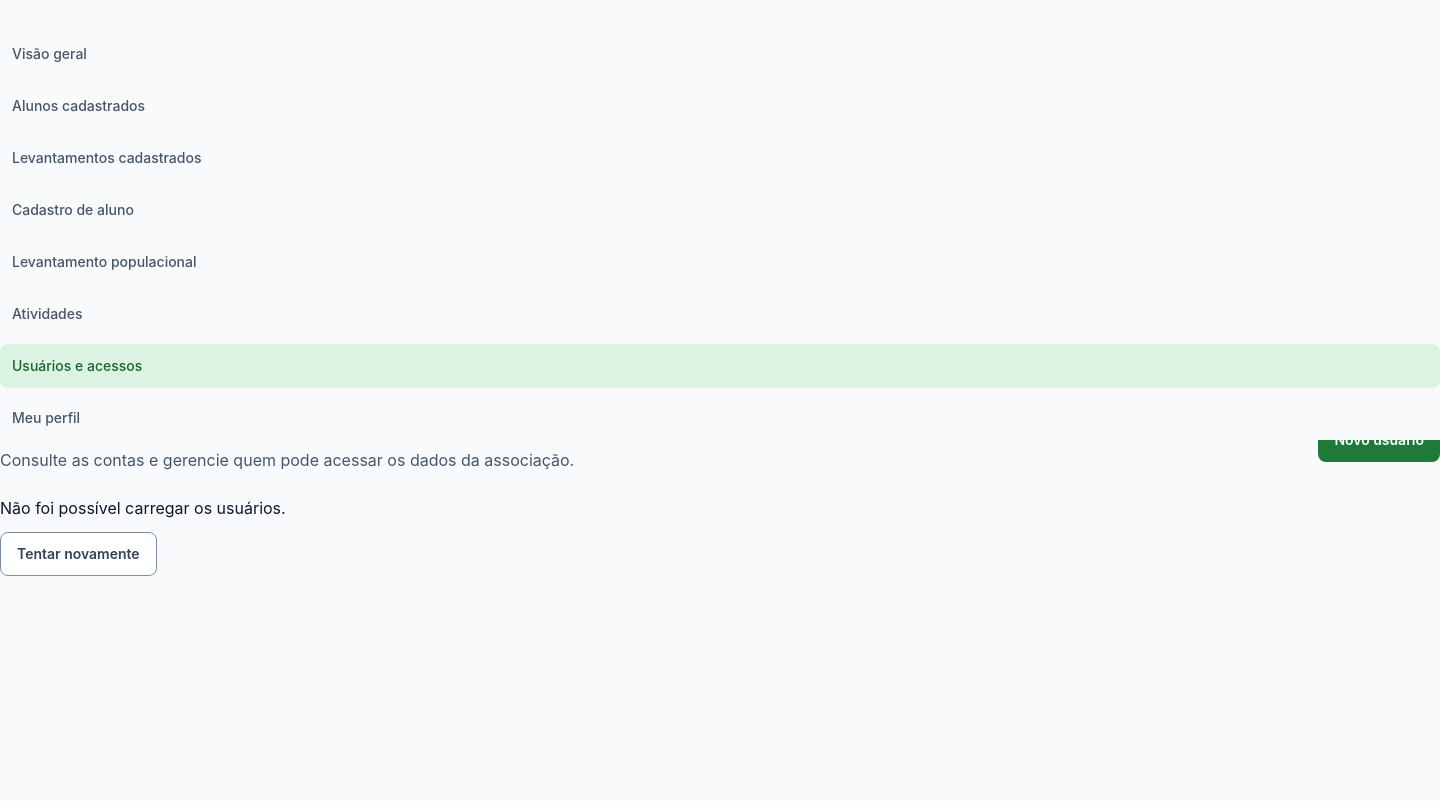
Scenario: filtra por e-mail e situação e permite recuperar falha da listagem
The image size is (1440, 801).
Click the button "Tentar novamente".
click(78, 554)  # box [0, 532, 157, 576]
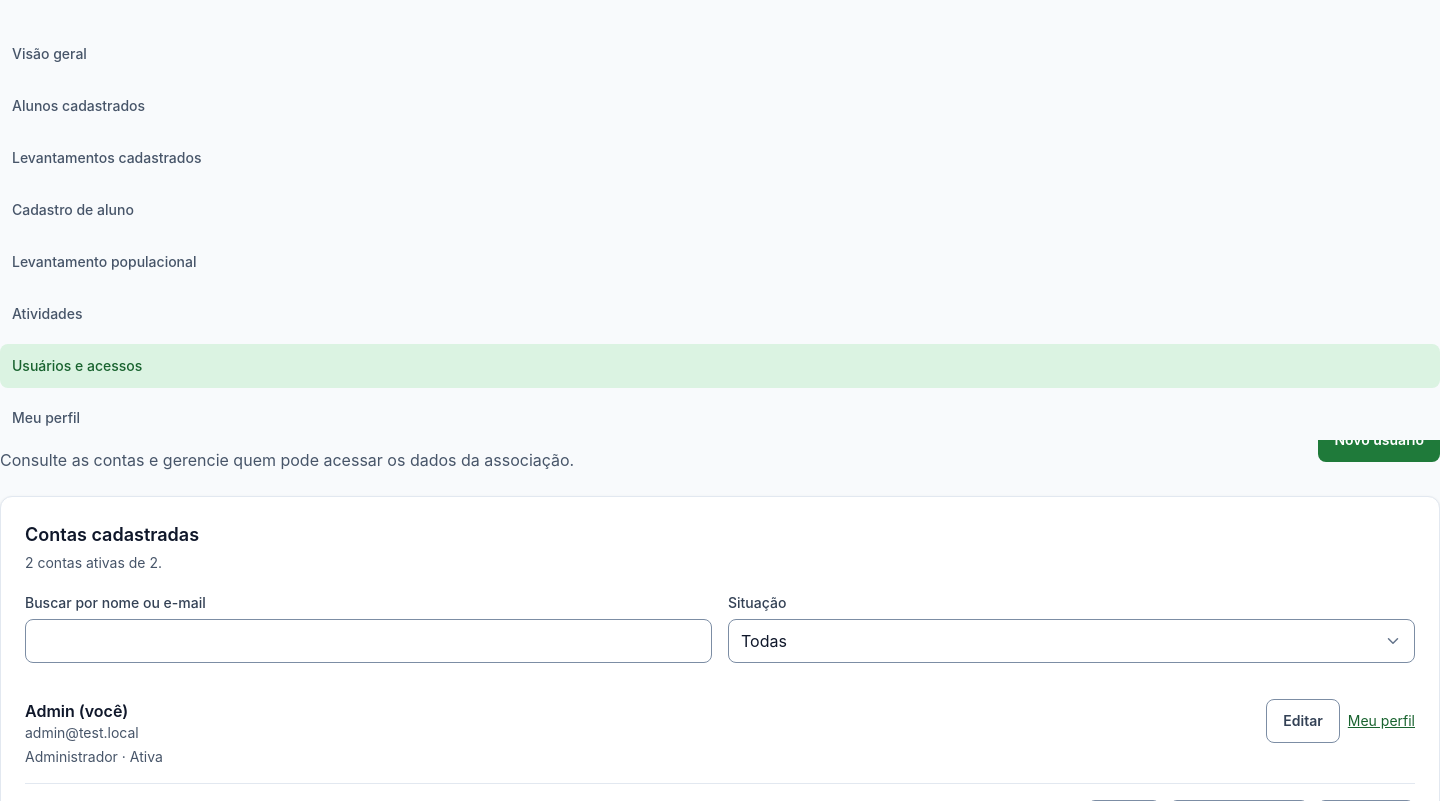
Type "joana@" into the search field labelled "Buscar por nome ou e-mail".
click(368, 641); type("joana@")  # box [25, 619, 712, 663]
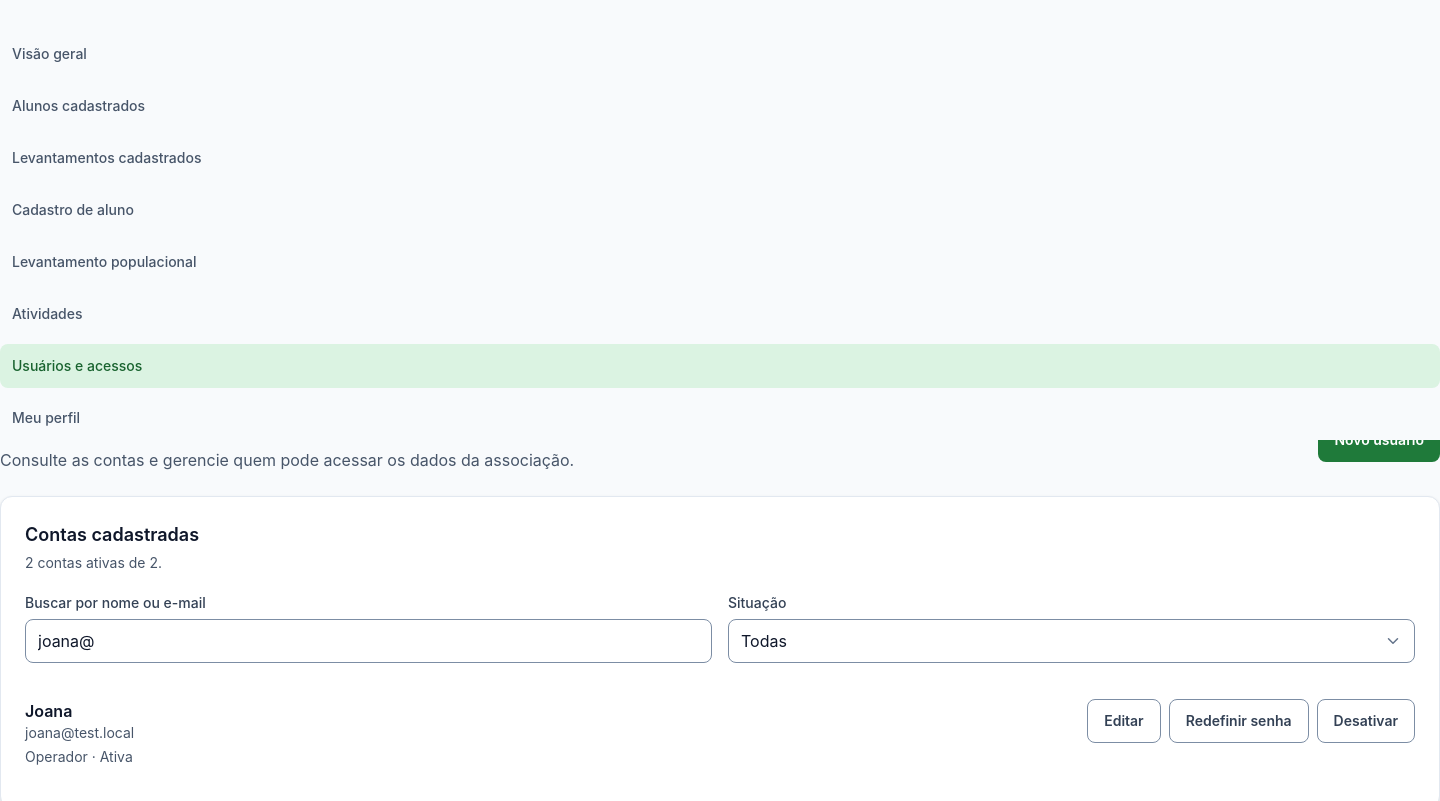
expect the text "Admin (você)" is gone: met
Select "Inativas" in the dropdown labelled "Situação" at (1072, 641), box [728, 619, 1415, 663]
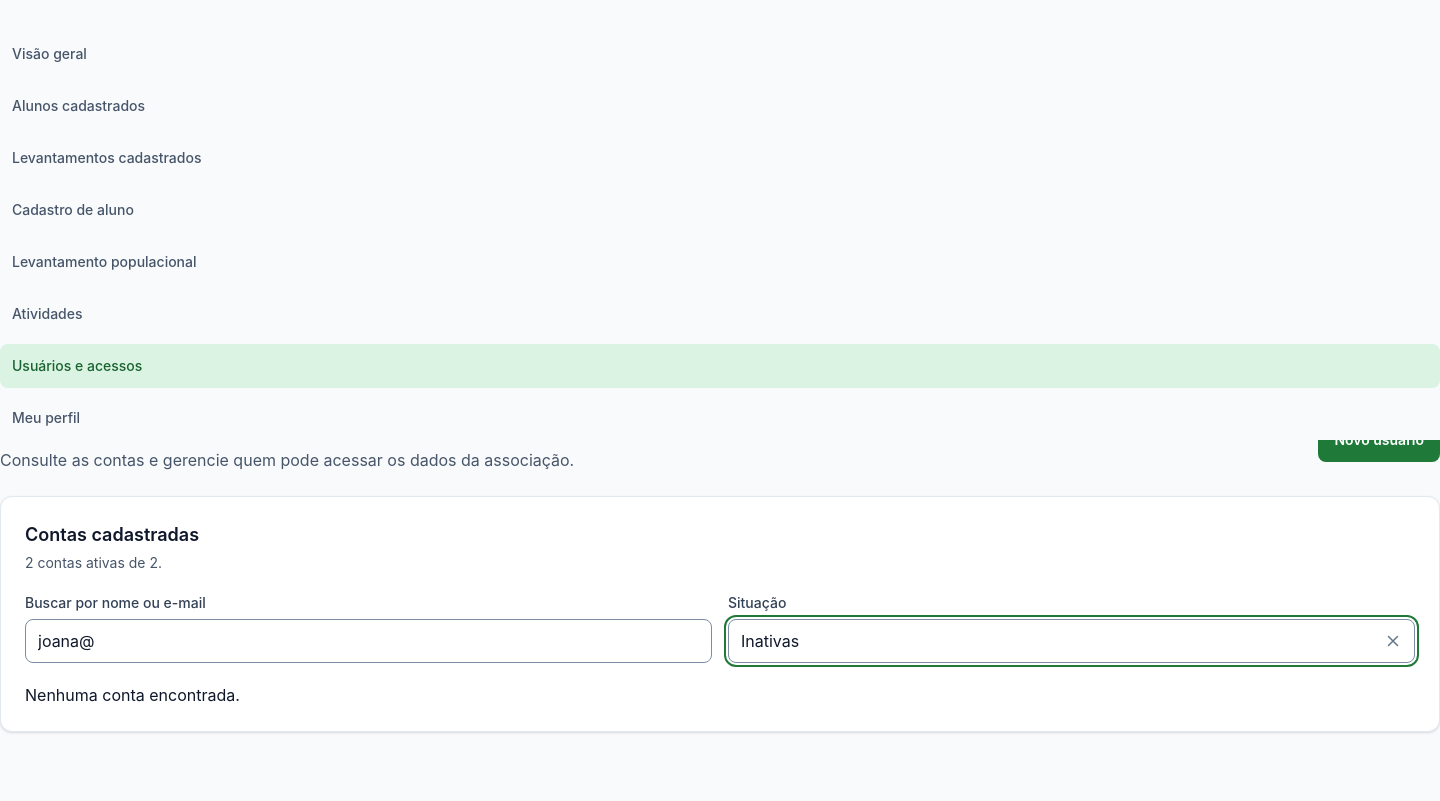
expect the text "Nenhuma conta encontrada." is shown: met, box [25, 685, 240, 705]
